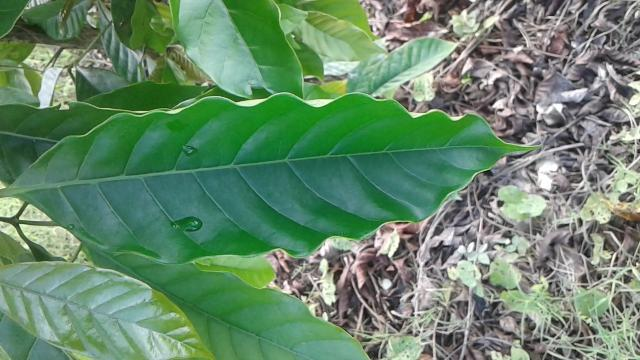healthy: (0, 86, 564, 267)
